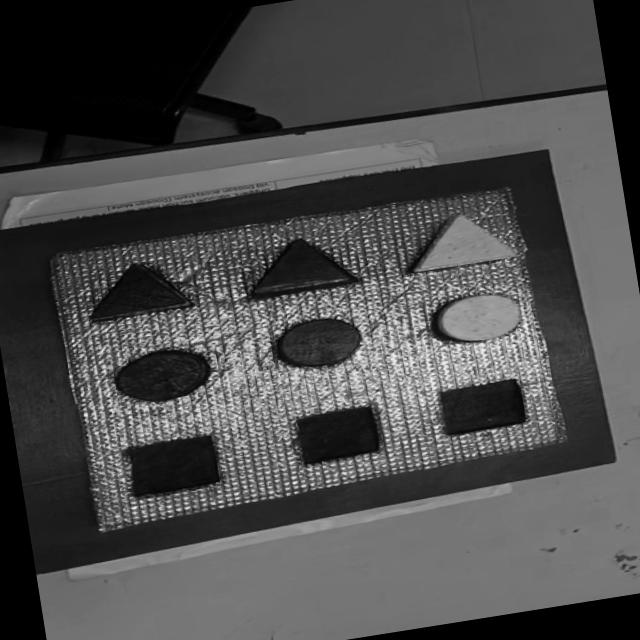bcircle: (108, 342, 217, 410)
btriangle: (80, 253, 198, 324)
mtcube: (124, 431, 226, 498), (291, 402, 384, 467), (436, 376, 530, 438)
rcircle: (267, 309, 370, 376)
rtriangle: (242, 230, 360, 300)
wb: (37, 185, 578, 536)
ycircle: (429, 286, 528, 348)
ytriangle: (403, 203, 520, 276)
